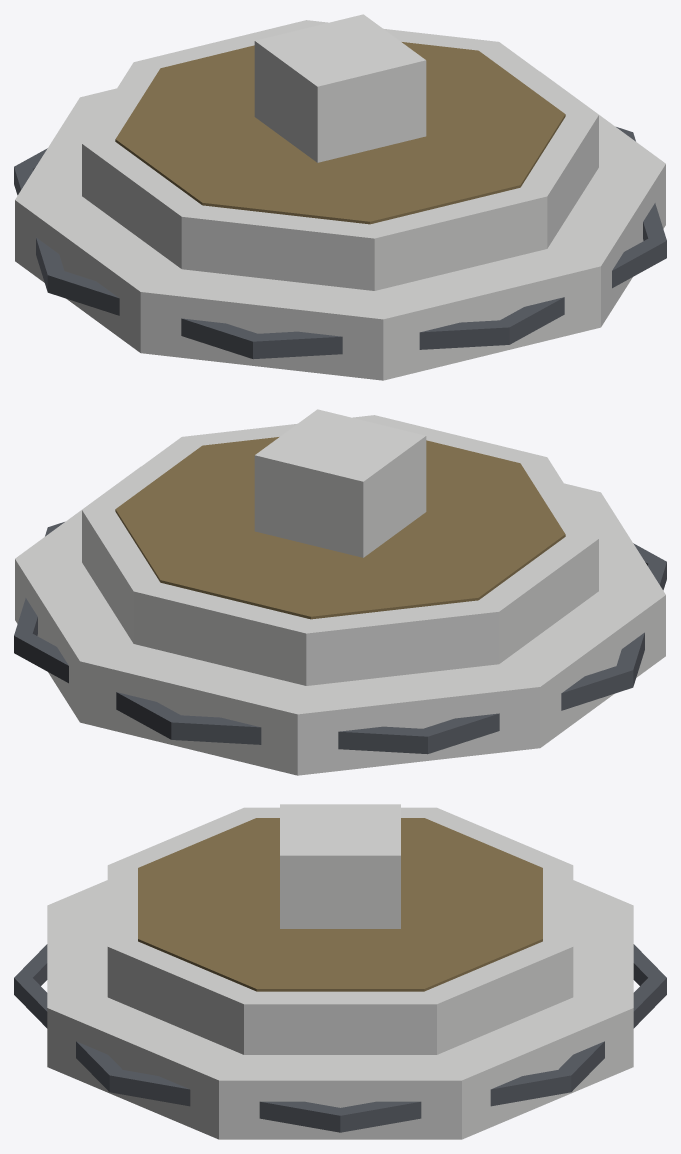
The model's file is CentralDais.fbx.
The picture shows the model from 3 angles, top to bottom: view 1: azimuth 30°, elevation 25°; view 2: azimuth 150°, elevation 25°; view 3: azimuth 270°, elevation 25°; orthographic projection. The views are drawn at different scales.
Parts seen in each view (by area): view 1: SM_CentralDais; view 2: SM_CentralDais; view 3: SM_CentralDais.
Boxes of the visible parts, left/top/right/bottom form: SM_CentralDais: left=14, top=14, right=666, bottom=380; SM_CentralDais: left=14, top=409, right=666, bottom=775; SM_CentralDais: left=14, top=804, right=666, bottom=1139.
Size of the model in its own units: 7 by 2.2 by 7.
